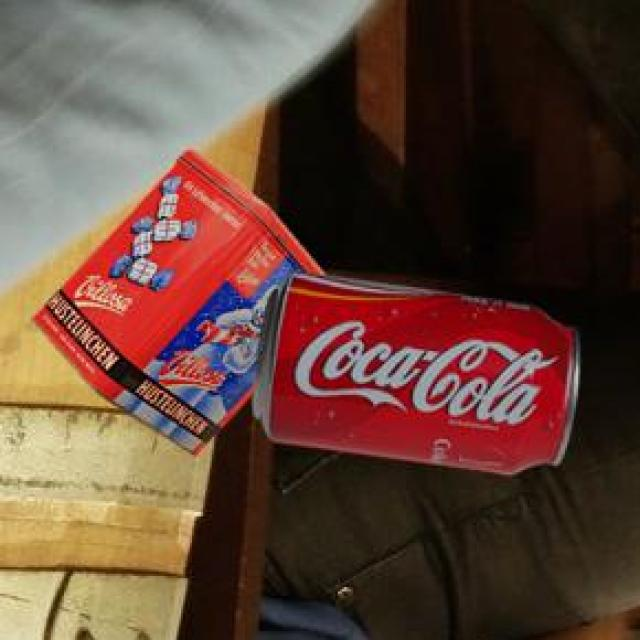logam: (36, 153, 328, 458), (257, 275, 584, 478)
